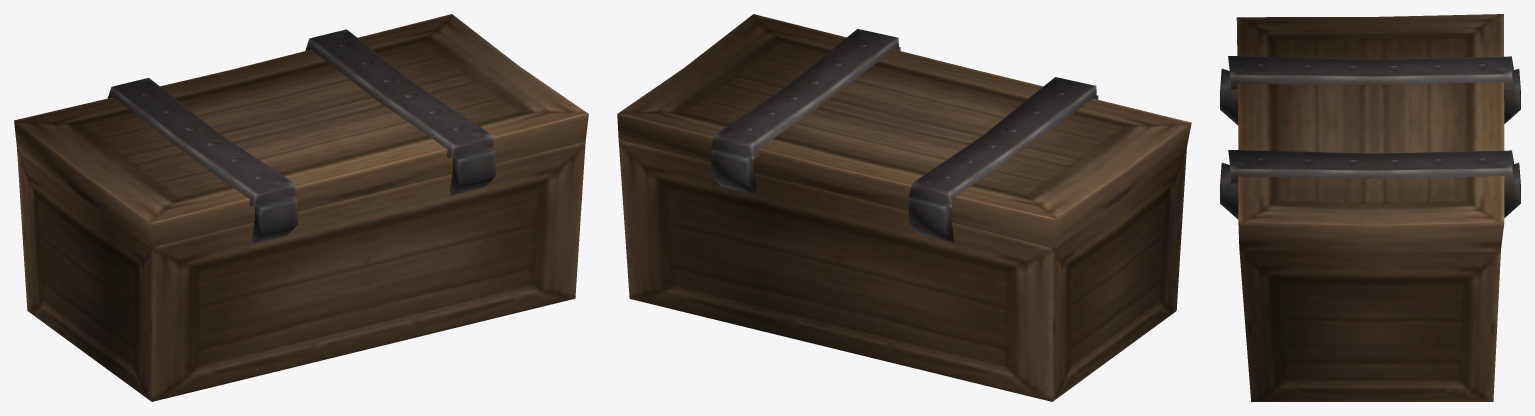
The model's file is FB5_jiumuxiang_3.FBX.
3 views of the same model, side by side, from view 1: azimuth 30°, elevation 25°; view 2: azimuth 150°, elevation 25°; view 3: azimuth 270°, elevation 25° (orthographic). The views are drawn at different scales.
Visible parts, largest first — view 1: FB5_jiumuxiang_3; view 2: FB5_jiumuxiang_3; view 3: FB5_jiumuxiang_3.
Boxes of the visible parts, x1,y1,x2,y2 form: FB5_jiumuxiang_3: (14,14,588,401); FB5_jiumuxiang_3: (617,14,1191,401); FB5_jiumuxiang_3: (1220,14,1520,401).
Bounding box in the file's own units: 18236 × 7719 × 11144.
1 material, 1 textured.
